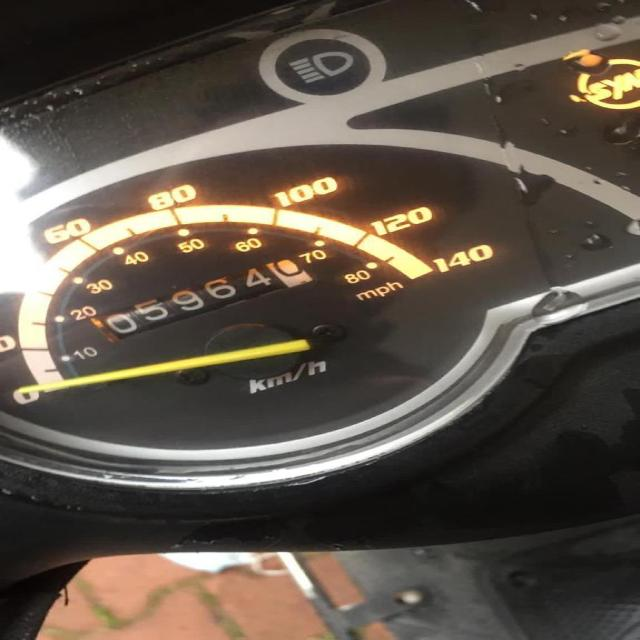odometer: (82, 257, 316, 344)
